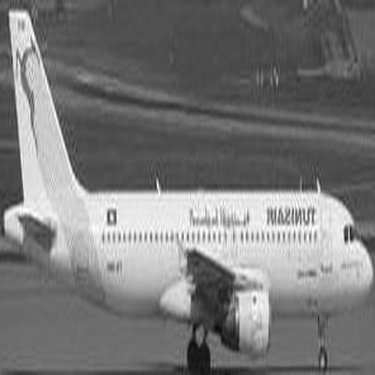airplane: (3, 4, 371, 372)
